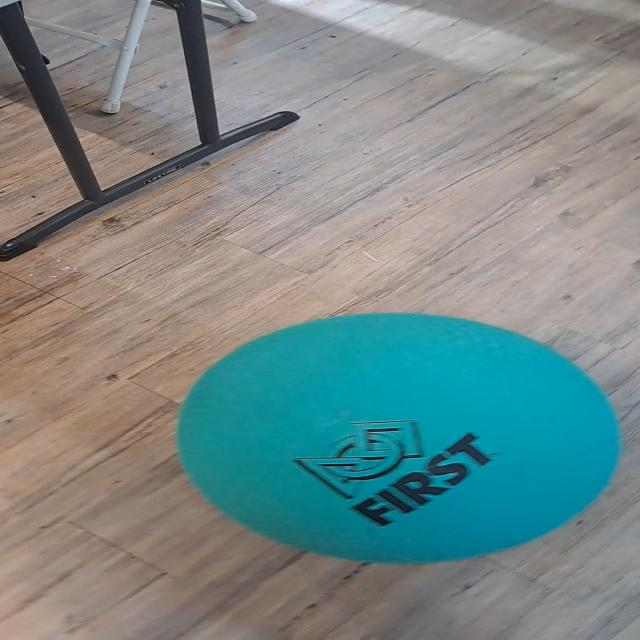ALGAE: (173, 310, 622, 565)
